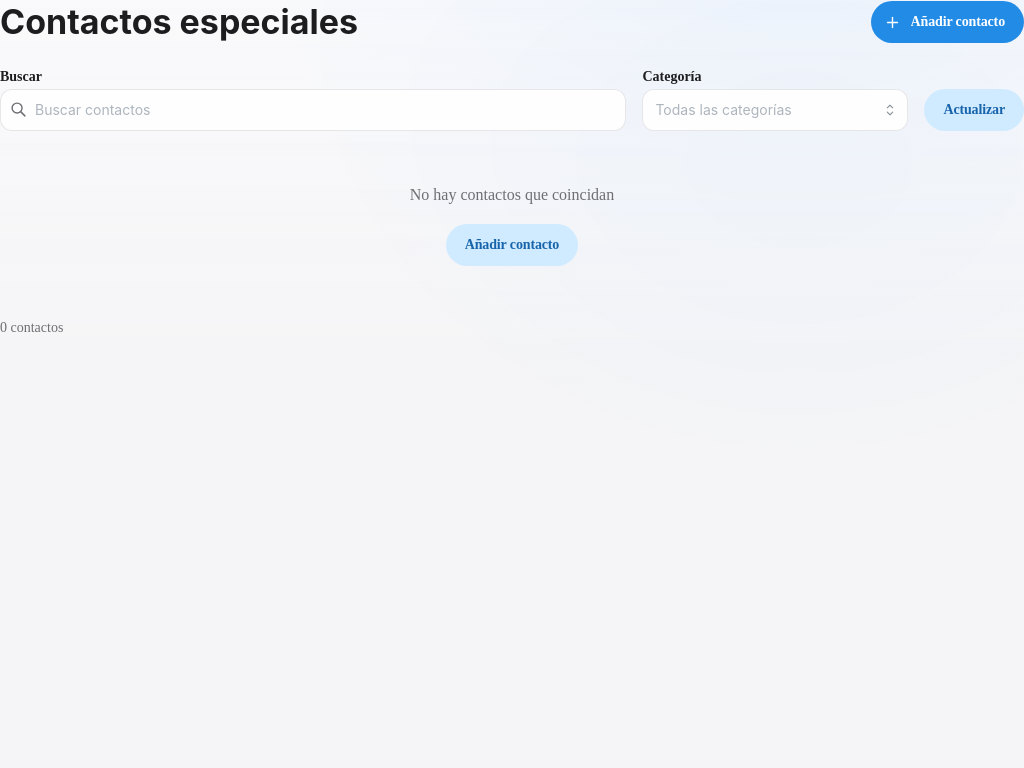
Test case: shows a save error inside the form and preserves entered data
Click the button "Añadir contacto" in the row of "Contactos especiales".
click(947, 22)  # box top-left (870, 1), bottom-right (1023, 43)
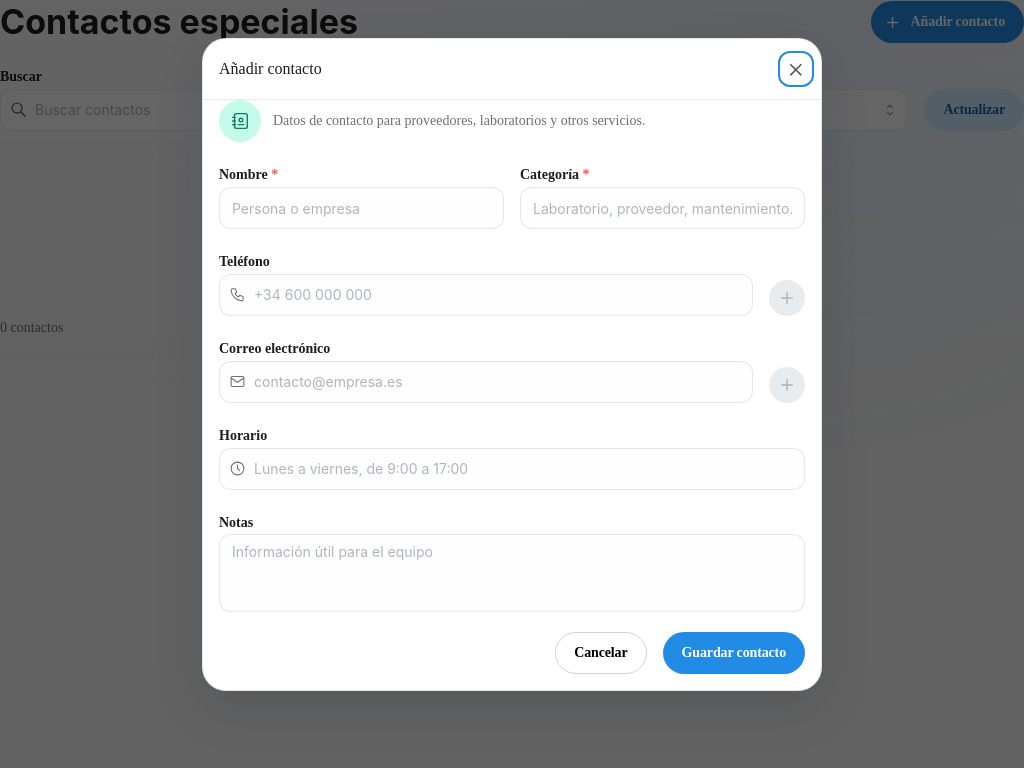
Type "Ana" into the field labelled "Nombre *".
click(362, 208); type("Ana")  # box top-left (219, 187), bottom-right (504, 229)
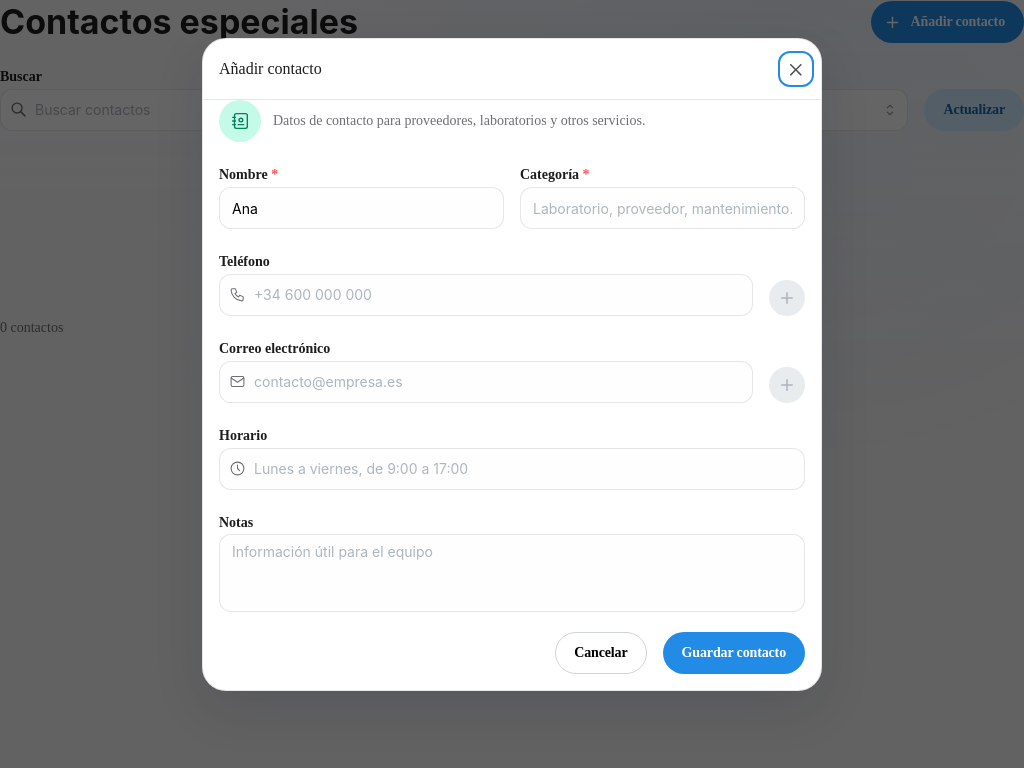
Type "Laboratorio" into the field labelled "Categoría *".
click(662, 208); type("Laboratorio")  # box top-left (520, 187), bottom-right (805, 229)
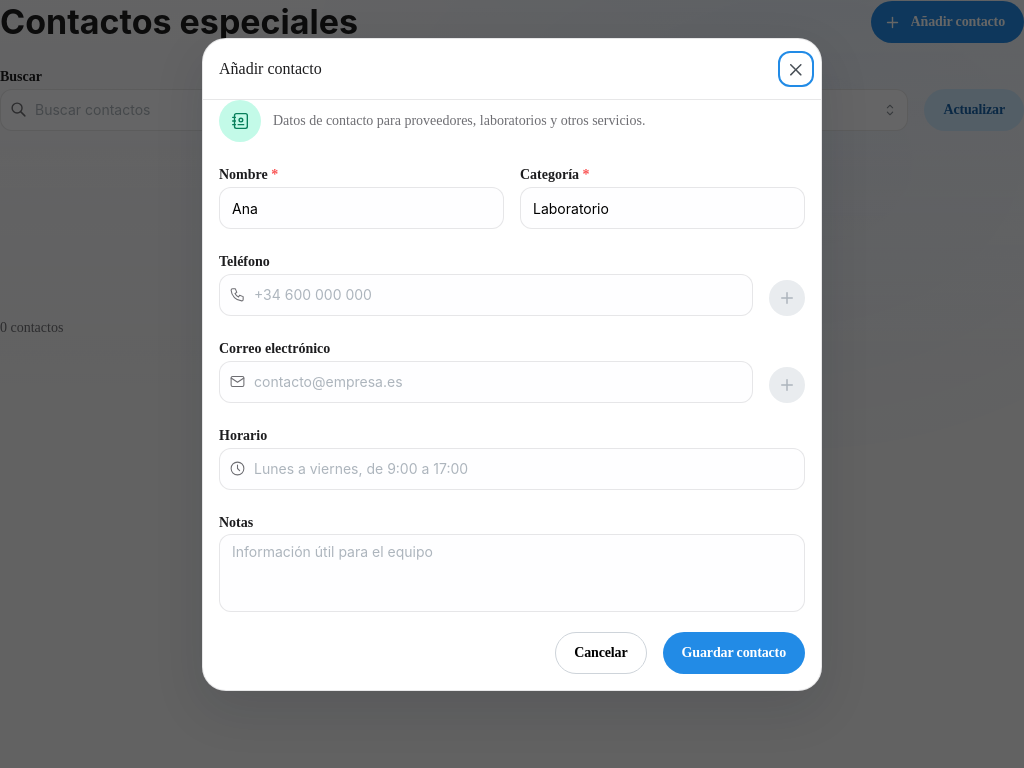
Click the button "Guardar contacto".
click(734, 653)  # box top-left (663, 632), bottom-right (805, 674)
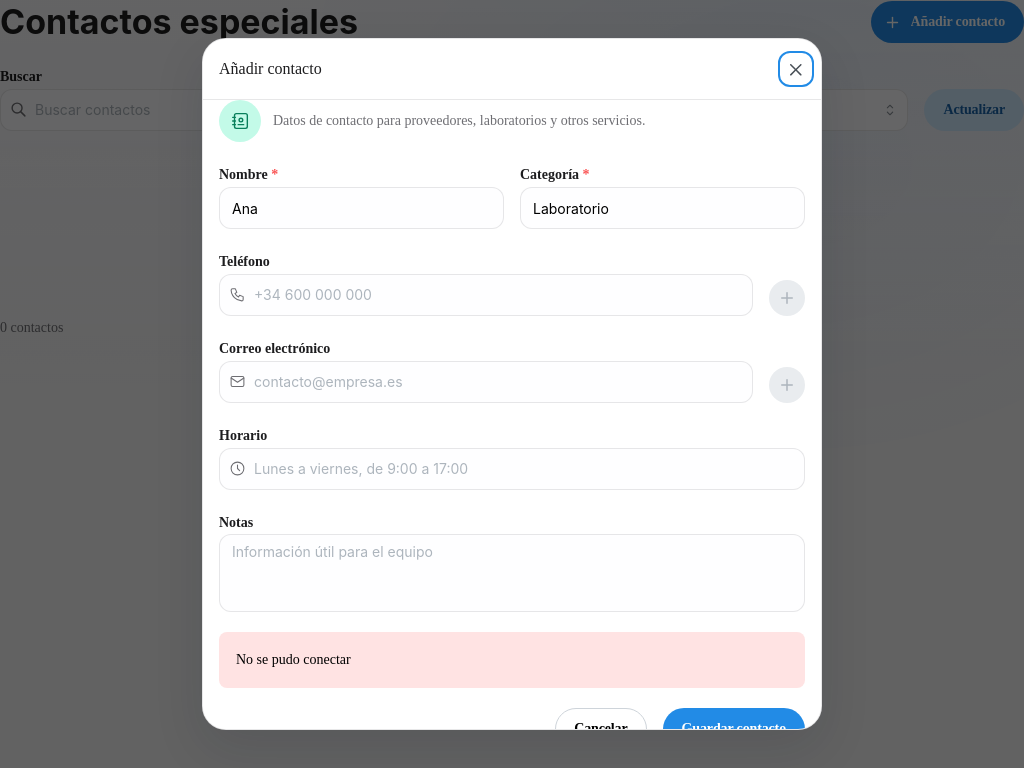
Now the message reads "No se pudo conectar", box top-left (236, 652), bottom-right (351, 667)
